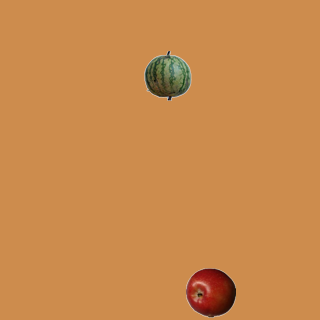Apple Braeburn: (185, 267, 235, 317)
Watermelon: (142, 50, 192, 100)
